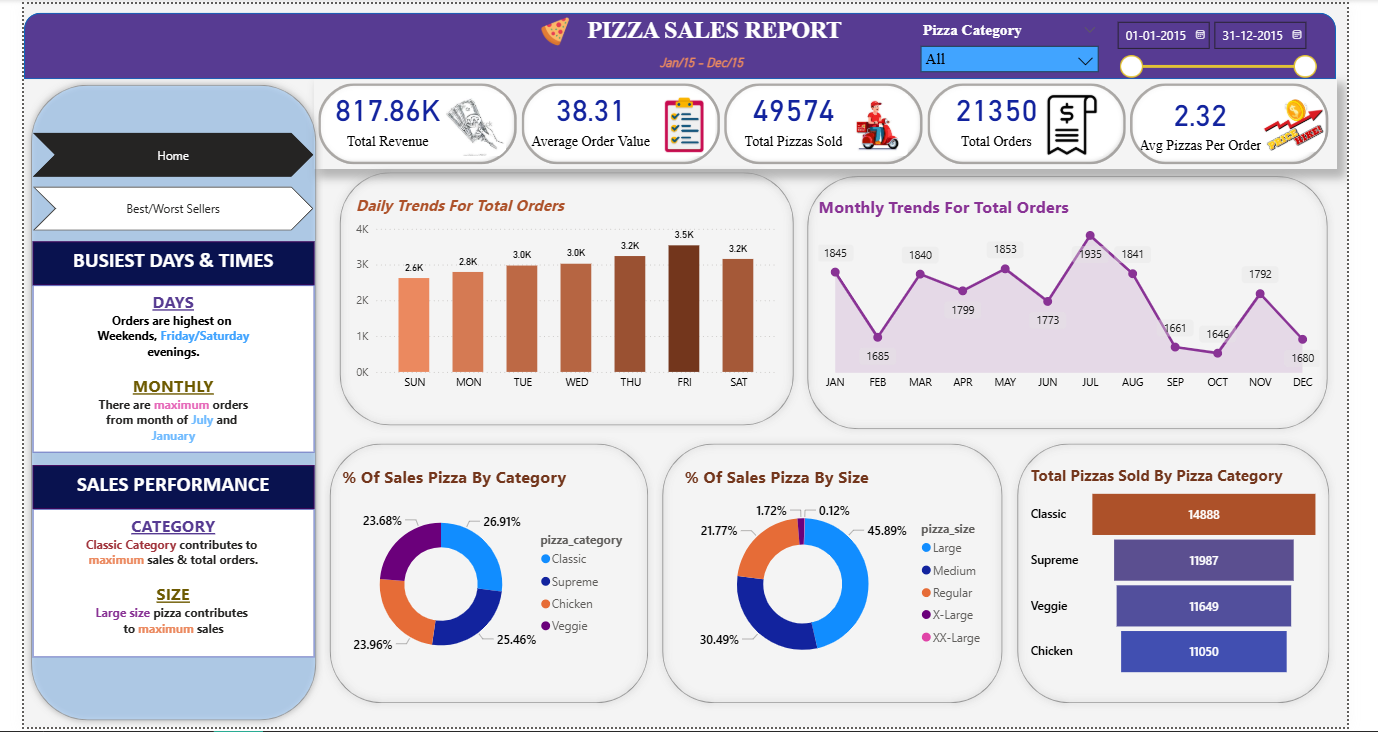

What the dashboard file says about the page in this screenshot:
{"tool":"powerbi","page":{"name":"Home","canvas":[1500,820],"ordinal":0},"visuals":[{"type":"shape","box":[0,84.1,339.1,736.2],"z":0},{"type":"cardVisual","fields":{"Data":["pizza_sales.Total Revenue","pizza_sales.Average Order Value","pizza_sales.Total Pizzas Sold","pizza_sales.Total Orders","pizza_sales.Avg Pizzas Per Order"]},"box":[328.7,85,1158.9,102],"z":1000},{"type":"shape","box":[0,10.1,1487,75.4],"z":2000},{"type":"textbox","box":[556.8,9.9,451.9,42.5],"z":3000},{"type":"textbox","box":[715.4,52.4,116.2,32.6],"z":4000},{"type":"image","box":[575.2,9.9,53.8,42.5],"z":5000},{"type":"shape","box":[349.3,182.6,530.4,302.9],"z":6000},{"type":"columnChart","title":"Daily Trends For Total Orders","fields":{"Category":["pizza_sales.Order Day"],"Y":["pizza_sales.Total Orders"]},"box":[371,217.4,487,230.4],"z":7000},{"type":"shape","box":[879.7,187,605.8,302.9],"z":8000},{"type":"areaChart","title":"Monthly Trends For Total Orders","fields":{"Y":["pizza_sales.Total Orders"],"Category":["pizza_sales.Order Month"]},"box":[895.7,217.4,578.3,230.4],"z":9000},{"type":"shape","box":[339.1,489.9,376.8,310.1],"z":10000},{"type":"shape","box":[715.9,489.9,401.4,310.1],"z":11000},{"type":"shape","box":[1117.4,489.9,369.6,310.1],"z":12000},{"type":"donutChart","title":"% Of Sales Pizza By Category ","fields":{"Category":["pizza_sales.pizza_category"],"Y":["pizza_sales.Total Revenue"]},"box":[355.1,523.2,343.5,244.9],"z":13000},{"type":"donutChart","title":"% Of Sales Pizza By Size","fields":{"Y":["pizza_sales.Total Revenue"],"Category":["pizza_sales.pizza_size"]},"box":[743.5,523.2,358,244.9],"z":14000},{"type":"funnel","title":"Total Pizzas Sold By Pizza Category","fields":{"Category":["pizza_sales.pizza_category"],"Y":["pizza_sales.Total Pizzas Sold"]},"box":[1136.2,523.2,337.7,244.9],"z":15000},{"type":"textbox","box":[10.1,269.6,318.8,49.3],"z":16000},{"type":"textbox","box":[10.1,318.8,318.8,189.9],"z":17000},{"type":"textbox","box":[10.1,523.2,318.8,49.3],"z":18000},{"type":"textbox","box":[10.1,572.5,318.8,168.1],"z":19000},{"type":"slicer","fields":{"Values":["pizza_sales.pizza_category"]},"box":[1005.8,15.9,221.7,63.8],"z":20000},{"type":"slicer","fields":{"Values":["pizza_sales.order_date"]},"box":[1227.5,10.1,246.4,75.4],"z":21000},{"type":"pageNavigator","box":[10.1,146.4,318.8,50.7],"z":21001},{"type":"pageNavigator","box":[10.1,207.2,318.8,50.7],"z":21002}]}

Visuals, with their boxes in screenshot pixels (x1, y1, x2, y2), scaled from the page's 1500x820 canvas onto the 1378x732 screenshot:
shape: (x1=0, y1=75, x2=312, y2=731)
cardVisual - pizza_sales.Total Revenue x pizza_sales.Average Order Value: (x1=302, y1=76, x2=1367, y2=167)
shape: (x1=0, y1=9, x2=1366, y2=76)
textbox: (x1=512, y1=9, x2=927, y2=47)
textbox: (x1=657, y1=47, x2=764, y2=76)
image: (x1=528, y1=9, x2=578, y2=47)
shape: (x1=321, y1=163, x2=808, y2=433)
"Daily Trends For Total Orders" columnChart: (x1=341, y1=194, x2=788, y2=400)
shape: (x1=808, y1=167, x2=1365, y2=437)
"Monthly Trends For Total Orders" areaChart: (x1=823, y1=194, x2=1354, y2=400)
shape: (x1=312, y1=437, x2=658, y2=714)
shape: (x1=658, y1=437, x2=1026, y2=714)
shape: (x1=1027, y1=437, x2=1366, y2=714)
"% Of Sales Pizza By Category " donutChart: (x1=326, y1=467, x2=642, y2=686)
"% Of Sales Pizza By Size" donutChart: (x1=683, y1=467, x2=1012, y2=686)
"Total Pizzas Sold By Pizza Category" funnel: (x1=1044, y1=467, x2=1354, y2=686)
textbox: (x1=9, y1=241, x2=302, y2=285)
textbox: (x1=9, y1=285, x2=302, y2=454)
textbox: (x1=9, y1=467, x2=302, y2=511)
textbox: (x1=9, y1=511, x2=302, y2=661)
slicer - pizza_sales.pizza_category: (x1=924, y1=14, x2=1128, y2=71)
slicer - pizza_sales.order_date: (x1=1128, y1=9, x2=1354, y2=76)
pageNavigator: (x1=9, y1=131, x2=302, y2=176)
pageNavigator: (x1=9, y1=185, x2=302, y2=230)
